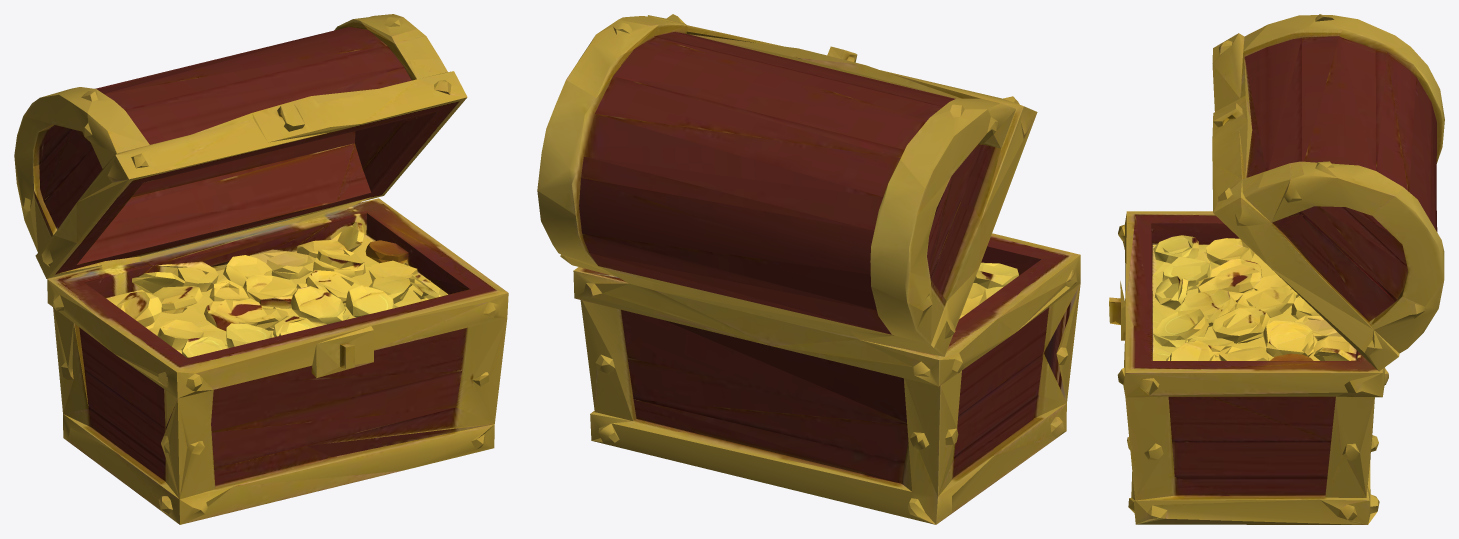
Rendered from chest_open_glow.glb.
3 renders of one model, left to right at view 1: azimuth 30°, elevation 25°; view 2: azimuth 150°, elevation 25°; view 3: azimuth 270°, elevation 25°, orthographic. The views are drawn at different scales.
Size of the model in its own units: 0.8058 by 0.8 by 0.6754.
1 material, 1 textured.
